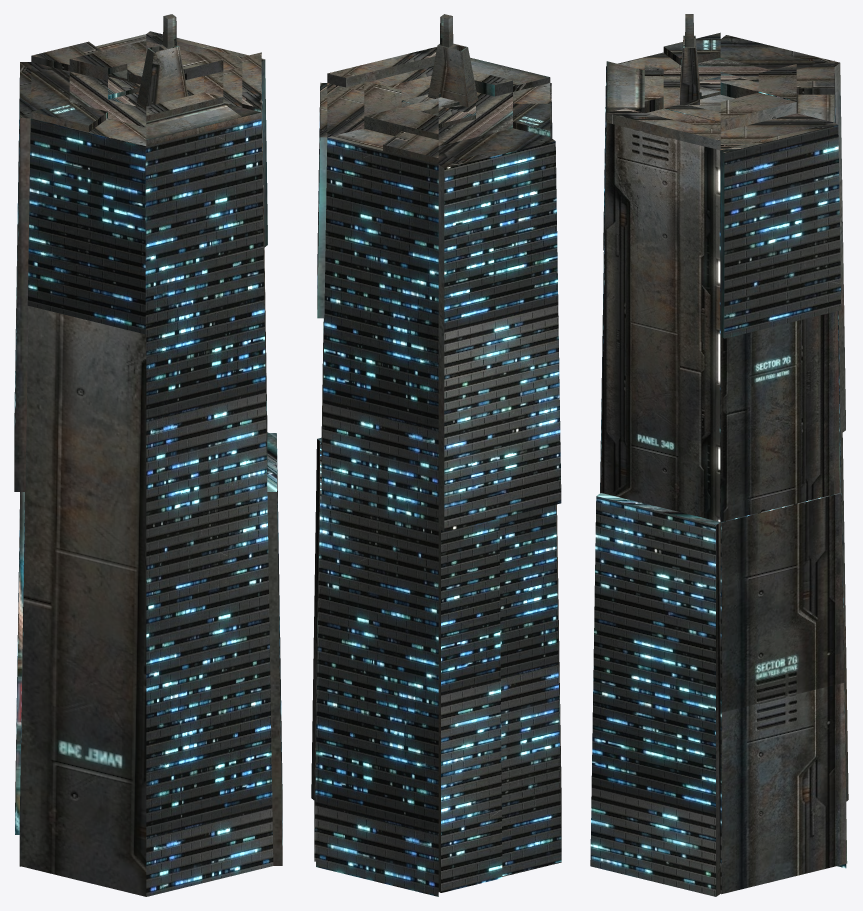
Rendered from 2026-commercial-building-4.glb.
The picture shows the model from 3 angles, left to right: view 1: azimuth 30°, elevation 25°; view 2: azimuth 150°, elevation 25°; view 3: azimuth 270°, elevation 25°; orthographic projection. The views are drawn at different scales.
Visible parts, largest first — view 1: 2026-commercial-building-4; view 2: 2026-commercial-building-4; view 3: 2026-commercial-building-4.
Boxes of the visible parts, left/top/right/bottom form: 2026-commercial-building-4: left=14, top=14, right=282, bottom=896; 2026-commercial-building-4: left=311, top=14, right=561, bottom=896; 2026-commercial-building-4: left=590, top=14, right=848, bottom=896.
Size of the model in its own units: 61.3 by 187 by 52.54.
1 material, 1 textured.
